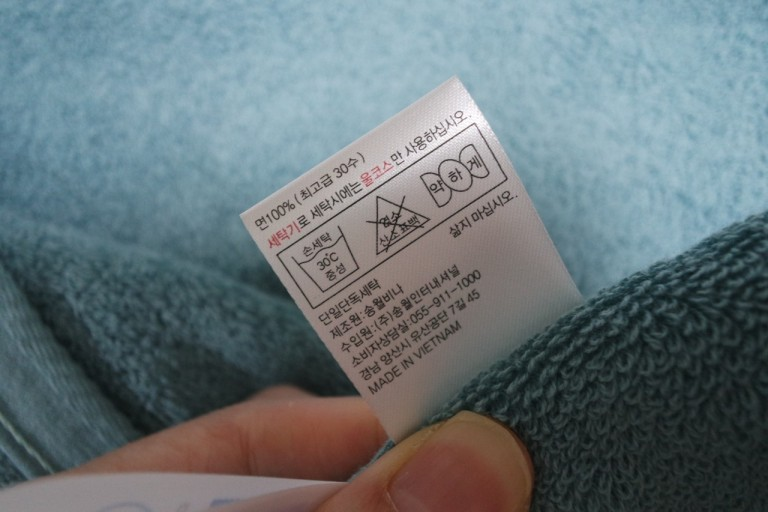KR_gentle_wring: (413, 136, 498, 218)
KR_hand_wash_30_neutral: (285, 217, 366, 297)
KR_no_bleach: (347, 179, 435, 263)
